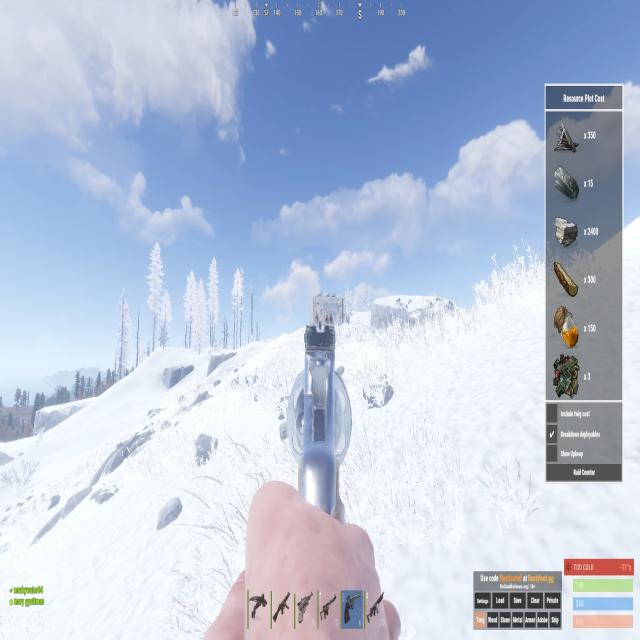Player: (320, 308, 324, 326)
